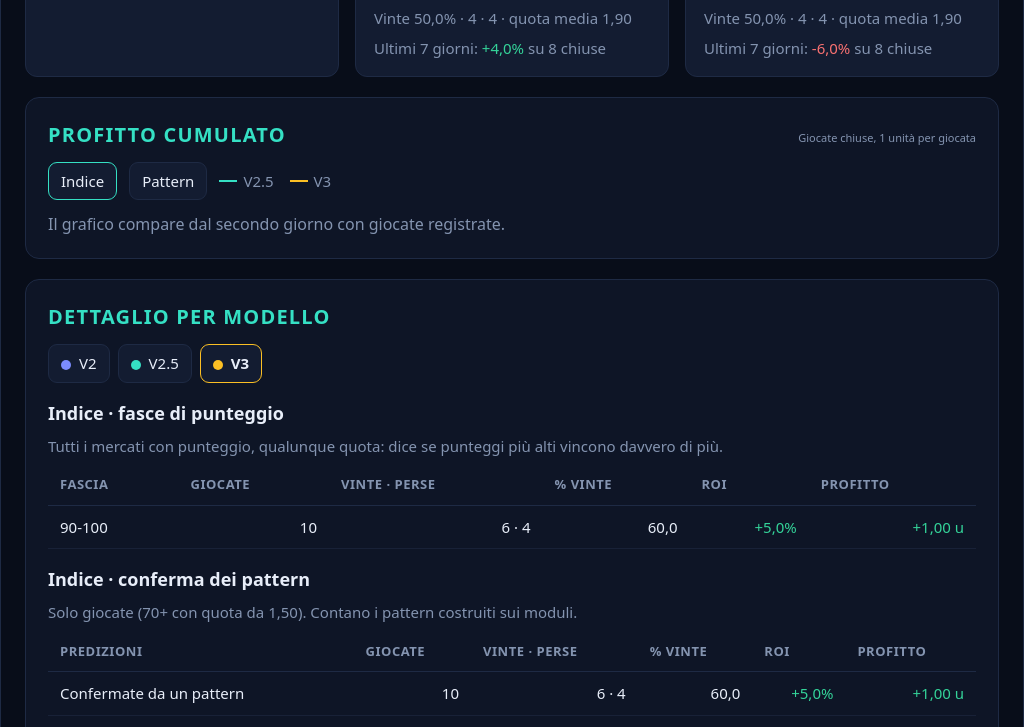
LiveObservationPage › il dettaglio cambia modello con le schede
(page scrolled)
Click the tab "V2.5": click(155, 363) [118, 344, 192, 382]
(page scrolled)
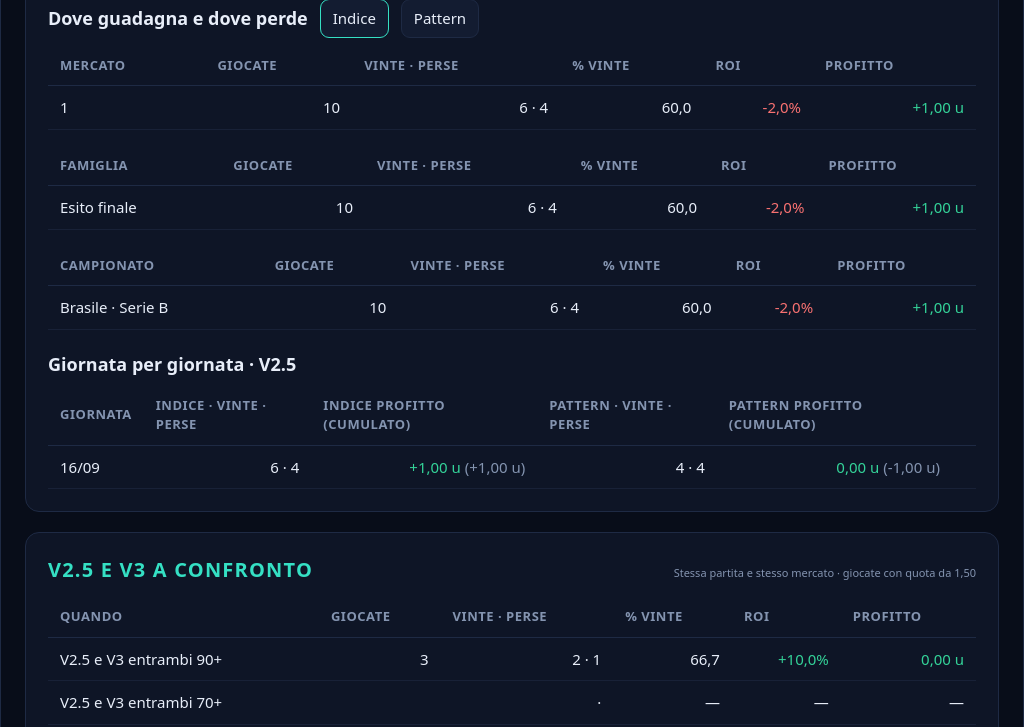
Expected: the heading "Giornata per giornata · V2.5" is shown, [48, 352, 296, 376]
